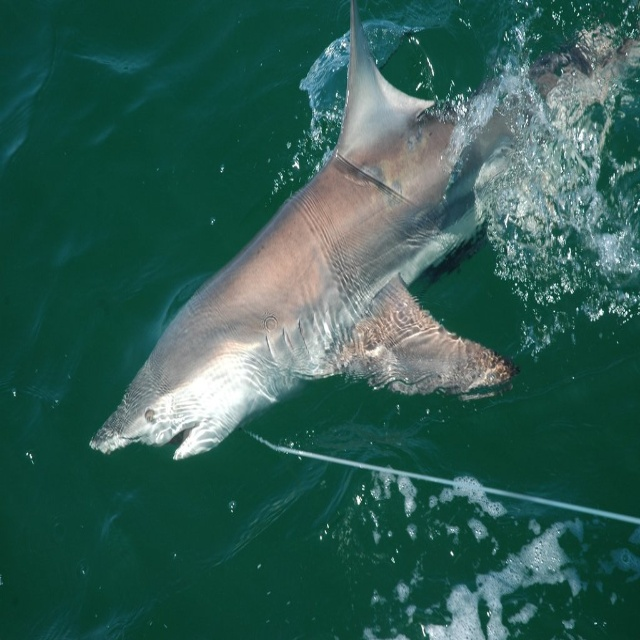Fish: (89, 1, 640, 460)
